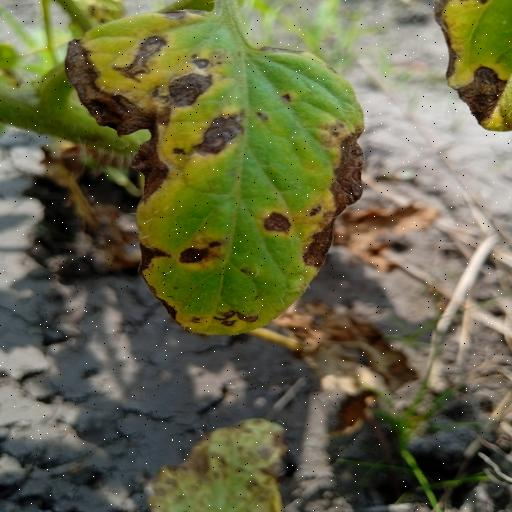Tomato_Brown_Spots: (66, 0, 372, 340)
